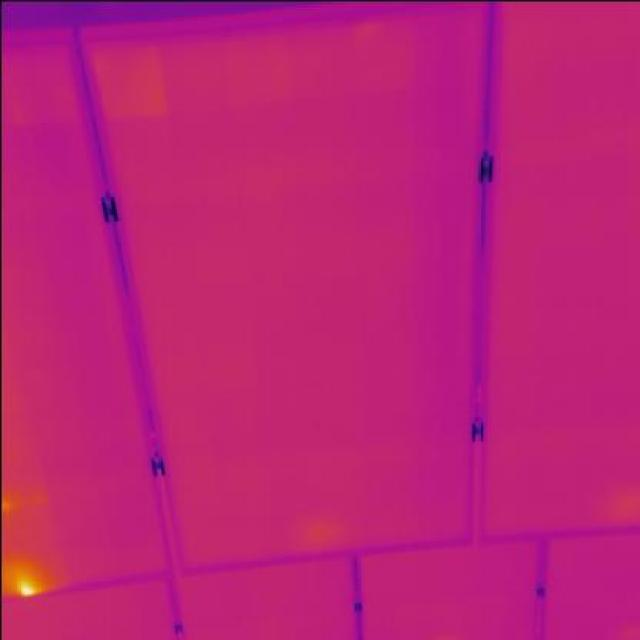hotspot: (11, 562, 40, 598)
